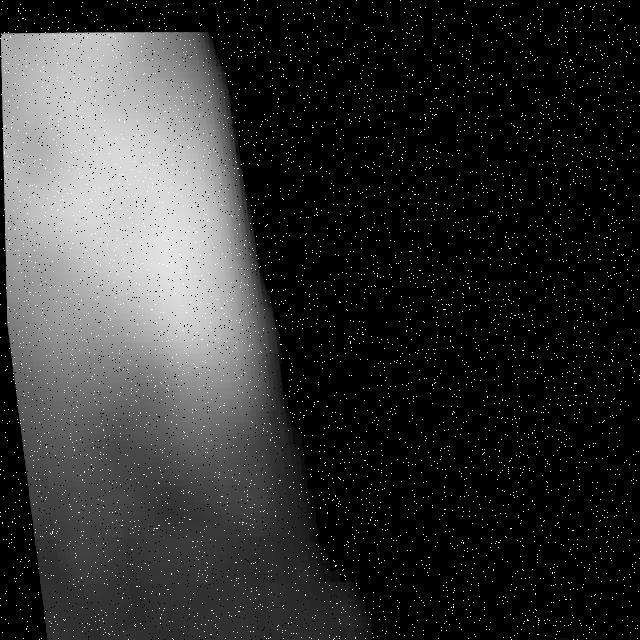person: (1, 9, 281, 517)
